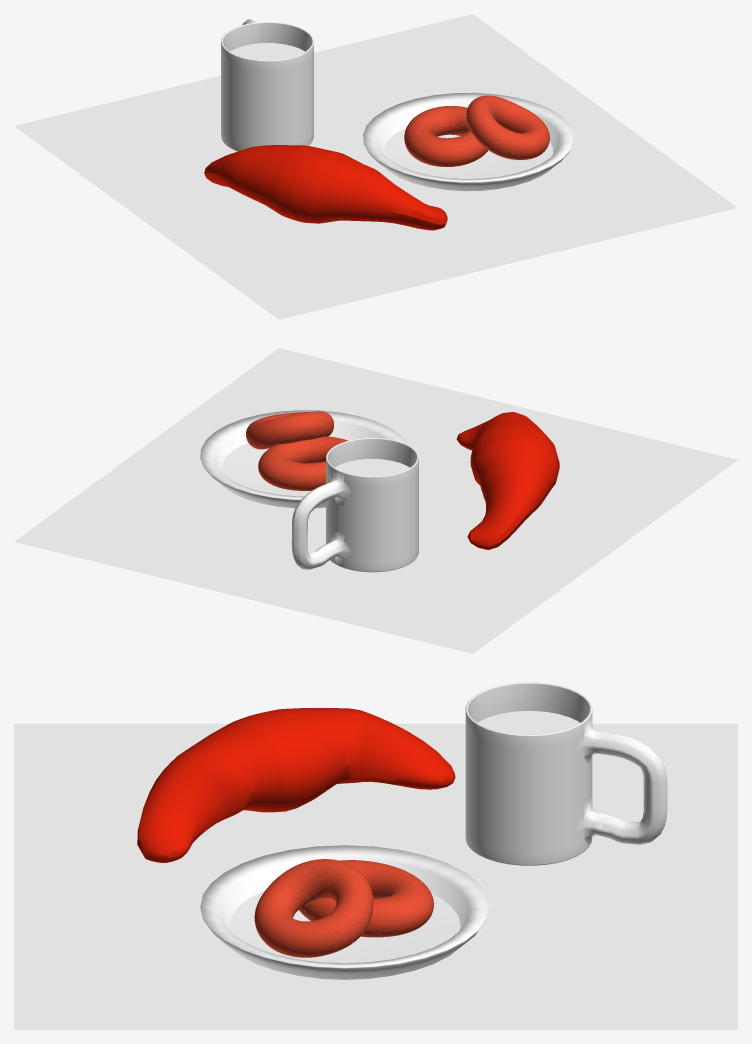
File: Donatest.glb
3 renders of one model, top to bottom at view 1: azimuth 30°, elevation 25°; view 2: azimuth 150°, elevation 25°; view 3: azimuth 270°, elevation 25°, orthographic. The views are drawn at different scales.
Parts seen in each view (by area): view 1: Plane, Circle.002, Circle, Circle.001, Torus, Torus.001; view 2: Plane, Circle, Circle.002, Circle.001, Torus.001, Torus; view 3: Plane, Circle, Circle.002, Circle.001, Torus, Torus.001.
Boxes of the visible parts, x1,y1,x2,y2 form: Plane: [14, 14, 737, 319]; Circle.002: [204, 145, 447, 230]; Circle: [221, 19, 313, 151]; Circle.001: [363, 92, 574, 191]; Torus: [466, 95, 549, 159]; Torus.001: [404, 106, 488, 166]; Plane: [14, 348, 737, 653]; Circle: [291, 438, 418, 572]; Circle.002: [456, 412, 559, 549]; Circle.001: [200, 410, 408, 508]; Torus.001: [258, 436, 347, 490]; Torus: [246, 411, 333, 449]; Plane: [14, 723, 737, 1029]; Circle: [465, 682, 667, 865]; Circle.002: [137, 708, 455, 862]; Circle.001: [200, 845, 489, 979]; Torus: [254, 859, 373, 957]; Torus.001: [299, 860, 433, 937].
Bounding box in the file's own units: 2.56 × 0.5184 × 2.56.
